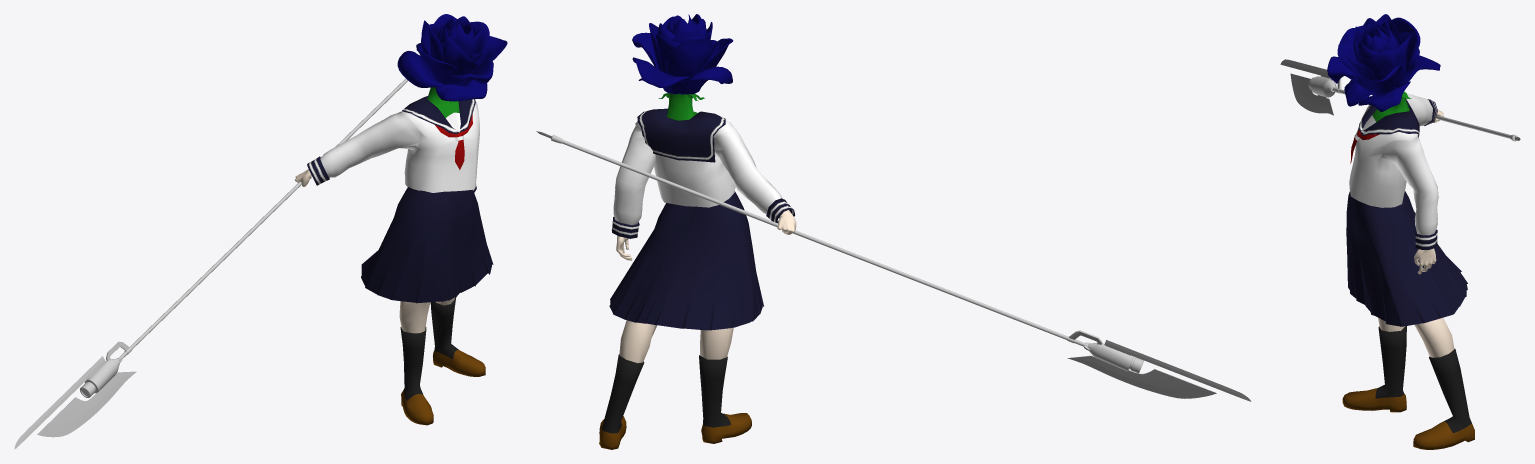
File: Sailor_pose.fbx
3 renders of one model, left to right at view 1: azimuth 30°, elevation 25°; view 2: azimuth 150°, elevation 25°; view 3: azimuth 270°, elevation 25°, orthographic. The views are drawn at different scales.
Visible parts, largest first — view 1: skirt.002_low, cloth_low, flower, spear, sox_low, shoes_low, body, collar_low; view 2: skirt.002_low, cloth_low, spear, flower, body, collar_low, sox_low, shoes_low; view 3: skirt.002_low, cloth_low, flower, sox_low, spear, shoes_low, body, collar_low.
Part boxes in pixels (<box>): skirt.002_low: <box>361,187,493,303</box>; cloth_low: <box>307,101,479,192</box>; flower: <box>397,14,507,101</box>; spear: <box>14,78,408,449</box>; sox_low: <box>400,297,458,400</box>; shoes_low: <box>401,350,485,425</box>; body: <box>294,87,459,333</box>; collar_low: <box>402,96,475,133</box>; skirt.002_low: <box>609,191,763,330</box>; cloth_low: <box>611,120,794,238</box>; spear: <box>536,131,1251,401</box>; flower: <box>632,14,733,94</box>; body: <box>616,93,796,363</box>; collar_low: <box>637,108,725,162</box>; sox_low: <box>602,354,731,433</box>; shoes_low: <box>599,413,751,449</box>; skirt.002_low: <box>1346,191,1467,326</box>; cloth_low: <box>1349,93,1438,249</box>; flower: <box>1327,14,1440,111</box>; sox_low: <box>1375,326,1471,433</box>; spear: <box>1280,59,1520,141</box>; shoes_low: <box>1342,388,1474,449</box>; body: <box>1372,91,1454,357</box>; collar_low: <box>1358,98,1419,137</box>.
Size of the model in its own units: 277 by 182 by 97.85.
